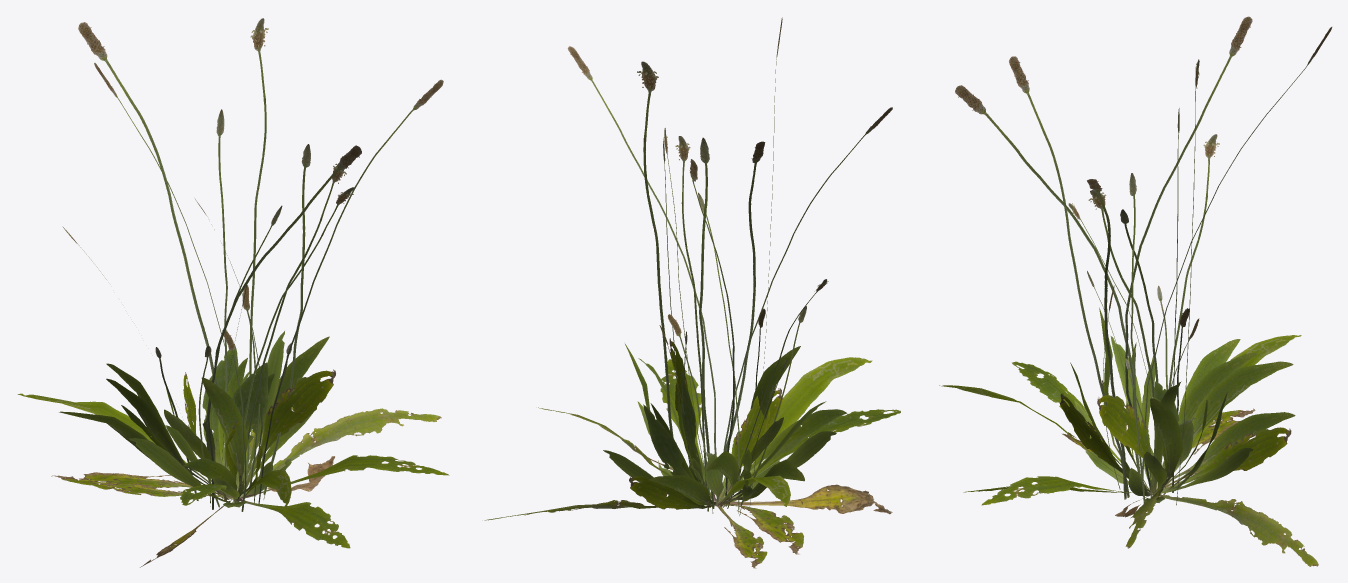
Rendered from Weed_04_Var1_LOD0.fbx.
The picture shows the model from 3 angles, left to right: view 1: azimuth 30°, elevation 25°; view 2: azimuth 150°, elevation 25°; view 3: azimuth 270°, elevation 25°; orthographic projection. The views are drawn at different scales.
Visible parts, largest first — view 1: Var1_LOD0; view 2: Var1_LOD0; view 3: Var1_LOD0.
Part boxes in pixels (box(x1,y1,x2,y2)): Var1_LOD0: box(17, 18, 449, 567); Var1_LOD0: box(484, 17, 900, 568); Var1_LOD0: box(939, 16, 1332, 566).
Size of the model in its own units: 43.73 by 56.44 by 43.21.
